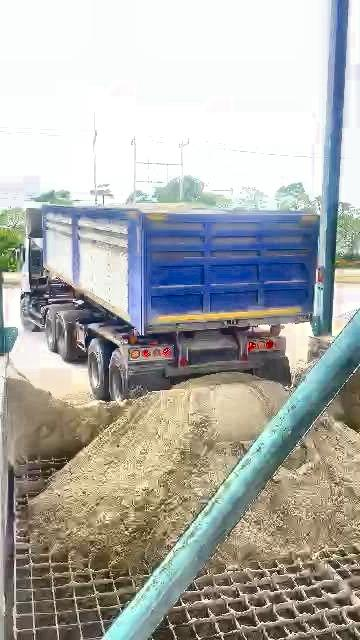sand: (31, 374, 288, 568), (217, 415, 359, 563), (6, 369, 127, 465), (329, 368, 360, 431), (126, 202, 210, 214), (295, 360, 314, 386)
